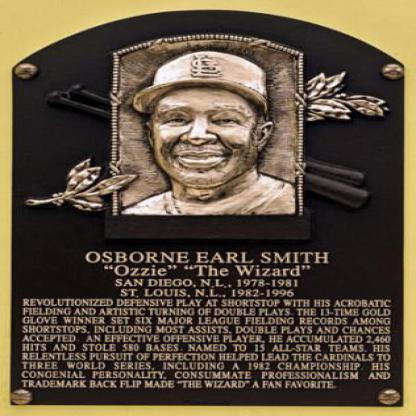face: (145, 59, 265, 188)
